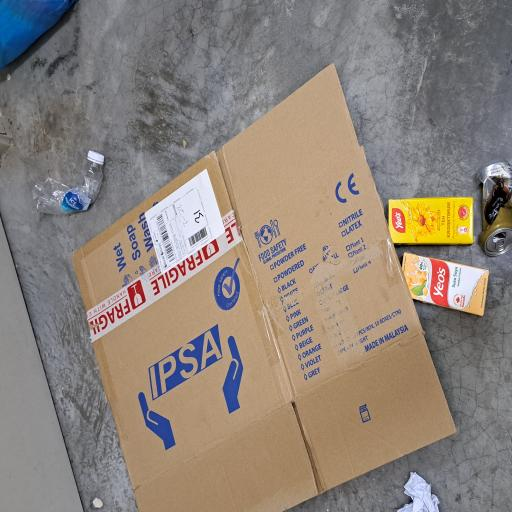cardboard: (0, 99, 337, 512)
plastic bag: (329, 0, 384, 105)
plastic bottle: (222, 44, 273, 140)
plastic bottle cap: (258, 114, 273, 140)
